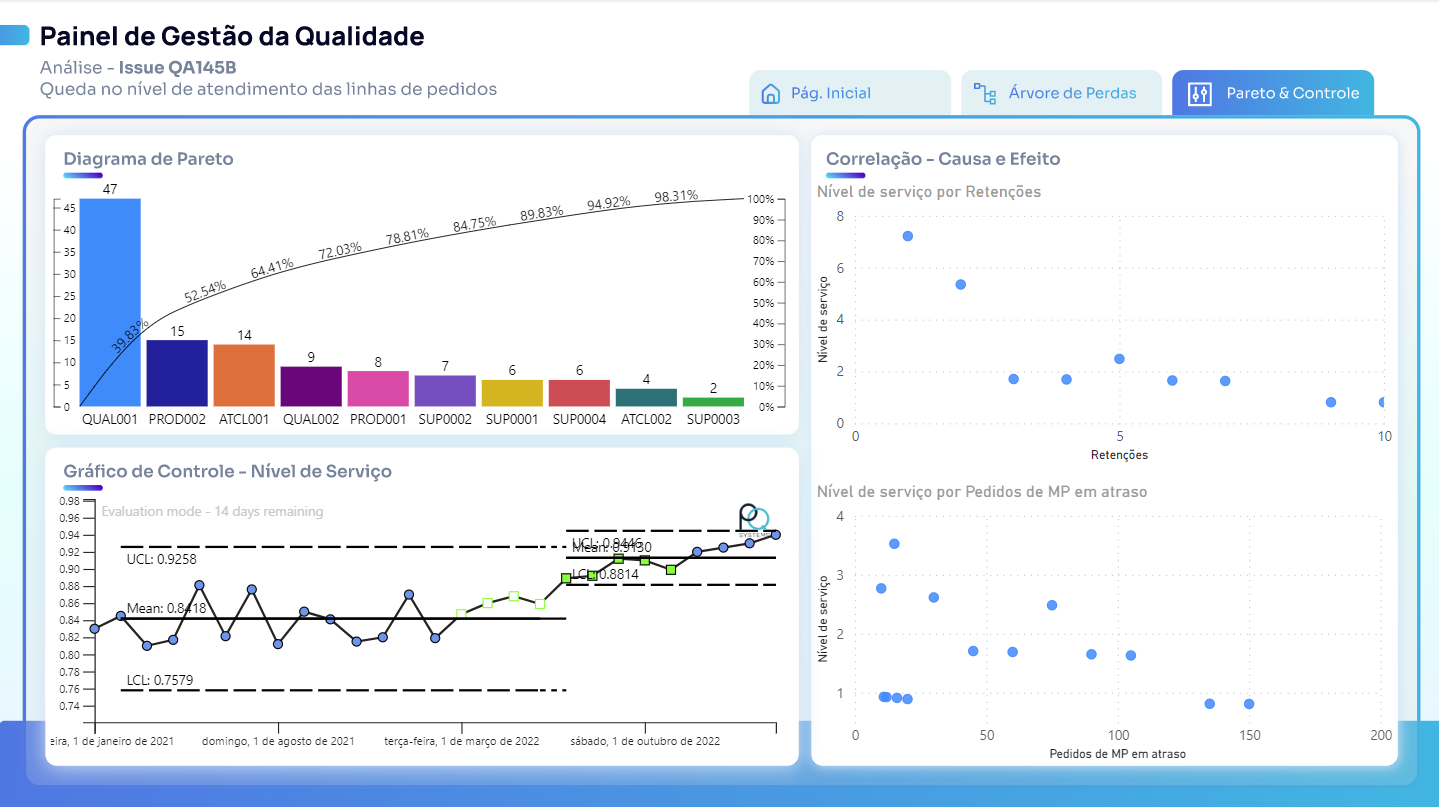

What the dashboard file says about the page in this screenshot:
{"tool":"powerbi","page":{"name":"Pareto e Controle","canvas":[1280,720],"ordinal":2},"visuals":[{"type":"actionButton","box":[664.1,61.2,180.9,42.6],"z":0},{"type":"actionButton","box":[852.1,61.2,177.3,42.6],"z":1000},{"type":"paretoEDD8E69761BA4B7BB3AA6D813990D7BF","fields":{"paretoValues":["Medidas.Qtd Não Atendidas"],"paretoCategories":["dExceptionCode.Exception Code","dExceptionCode.Descrição","dExceptionCode.Categoria"]},"box":[40.9,153.7,663.3,231.5],"z":1001},{"type":"scatterChart","fields":{"X":["fNivelServiço.Retenções"],"Y":["Sum(fNivelServiço.Nível de serviço)"]},"box":[720,162.3,520.5,252.7],"z":1002},{"type":"scatterChart","fields":{"Y":["Sum(fNivelServiço.Nível de serviço)"],"X":["fNivelServiço.Pedidos de MP em atraso"]},"box":[720,428.3,520.5,251.8],"z":1003},{"type":"individuals42E8DF98F1244DB799B2A8A65DBCB226","fields":{"axis":["fNivelServiço.Mês"],"datavalues":["Sum(fNivelServiço.Nível de serviço)"]},"box":[41,428,663,252],"z":1004}]}

Visuals, with their boxes in screenshot pixels (x1, y1, x2, y2), scaled from the page's 1280x720 canvas onto the 1439x807 screenshot:
actionButton: pyautogui.locateOnScreen(747, 69, 950, 116)
actionButton: pyautogui.locateOnScreen(958, 69, 1157, 116)
paretoEDD8E69761BA4B7BB3AA6D813990D7BF - Medidas.Qtd Não Atendidas x dExceptionCode.Exception Code: pyautogui.locateOnScreen(46, 172, 792, 432)
scatterChart - fNivelServiço.Retenções x Sum(fNivelServiço.Nível de serviço): pyautogui.locateOnScreen(809, 182, 1395, 465)
scatterChart - Sum(fNivelServiço.Nível de serviço) x fNivelServiço.Pedidos de MP em atraso: pyautogui.locateOnScreen(809, 480, 1395, 762)
individuals42E8DF98F1244DB799B2A8A65DBCB226 - fNivelServiço.Mês x Sum(fNivelServiço.Nível de serviço): pyautogui.locateOnScreen(46, 480, 791, 762)
